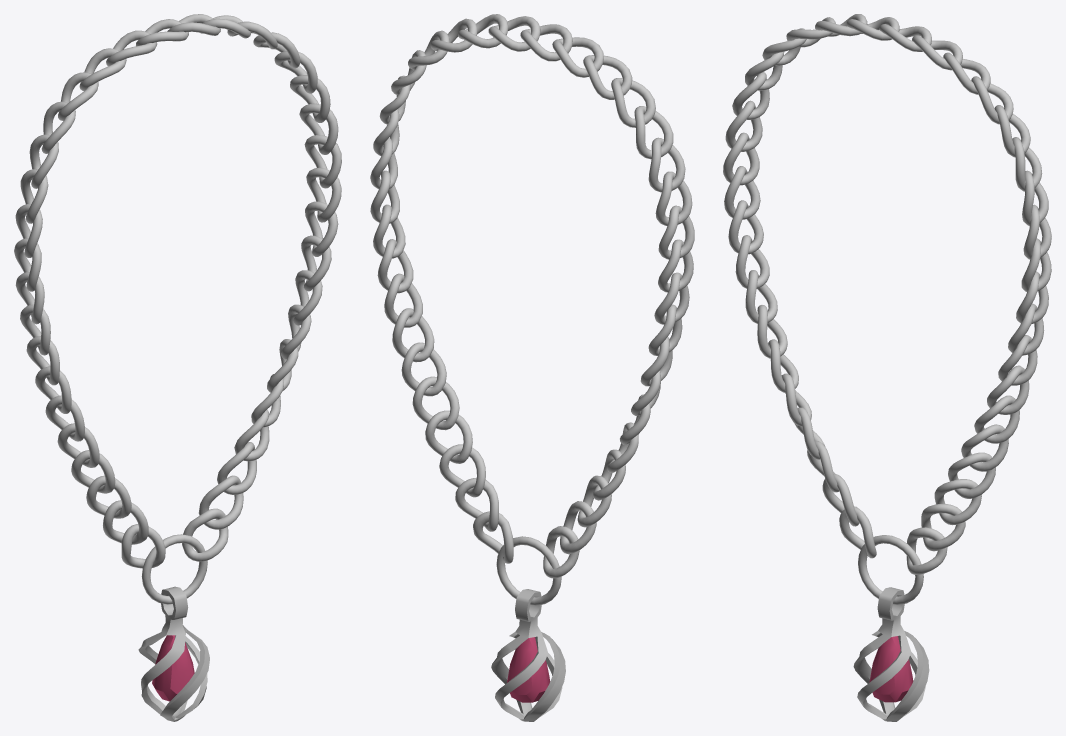
The model's file is necklace.glb.
The picture shows the model from 3 angles, left to right: view 1: azimuth 30°, elevation 25°; view 2: azimuth 150°, elevation 25°; view 3: azimuth 330°, elevation 25°; orthographic projection.
Visible parts, largest first — view 1: chain_BezierCircle_2, GemCage_0, Gem_1; view 2: chain_BezierCircle_2, GemCage_0, Gem_1; view 3: chain_BezierCircle_2, GemCage_0, Gem_1.
Boxes of the visible parts, left/top/right/bottom form: chain_BezierCircle_2: left=14, top=14, right=341, bottom=604; GemCage_0: left=138, top=586, right=209, bottom=721; Gem_1: left=152, top=635, right=194, bottom=701; chain_BezierCircle_2: left=370, top=14, right=694, bottom=605; GemCage_0: left=491, top=589, right=565, bottom=721; Gem_1: left=507, top=637, right=550, bottom=702; chain_BezierCircle_2: left=723, top=14, right=1051, bottom=604; GemCage_0: left=853, top=587, right=929, bottom=721; Gem_1: left=869, top=636, right=913, bottom=702.
Bounding box in the file's own units: 0.1567 × 0.3338 × 0.0353.
